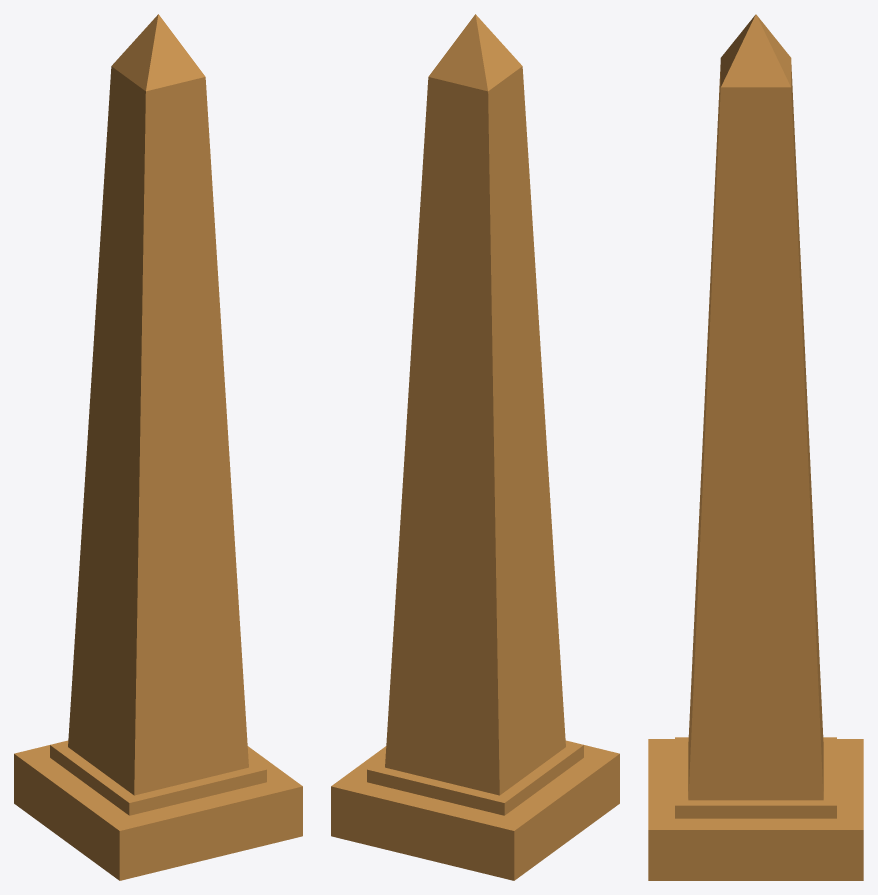
Rendered from Obelisk.fbx.
The picture shows the model from 3 angles, left to right: view 1: azimuth 30°, elevation 25°; view 2: azimuth 150°, elevation 25°; view 3: azimuth 270°, elevation 25°; orthographic projection.
Parts seen in each view (by area): view 1: Cube; view 2: Cube; view 3: Cube.
Part boxes in pixels (bbox=[...]): Cube: bbox=[14, 14, 302, 880]; Cube: bbox=[331, 14, 619, 880]; Cube: bbox=[648, 14, 863, 880].
Size of the model in its own units: 100 by 420 by 100.
